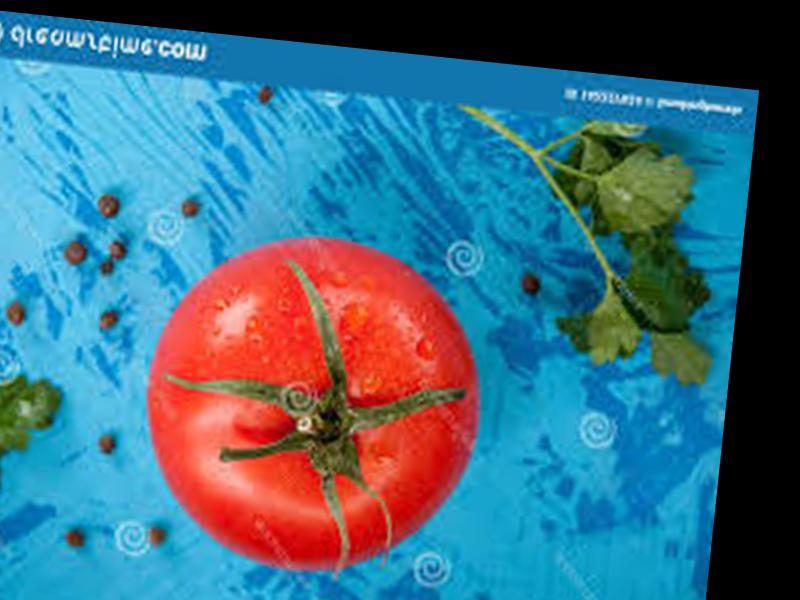Tomato: (131, 221, 496, 585)
